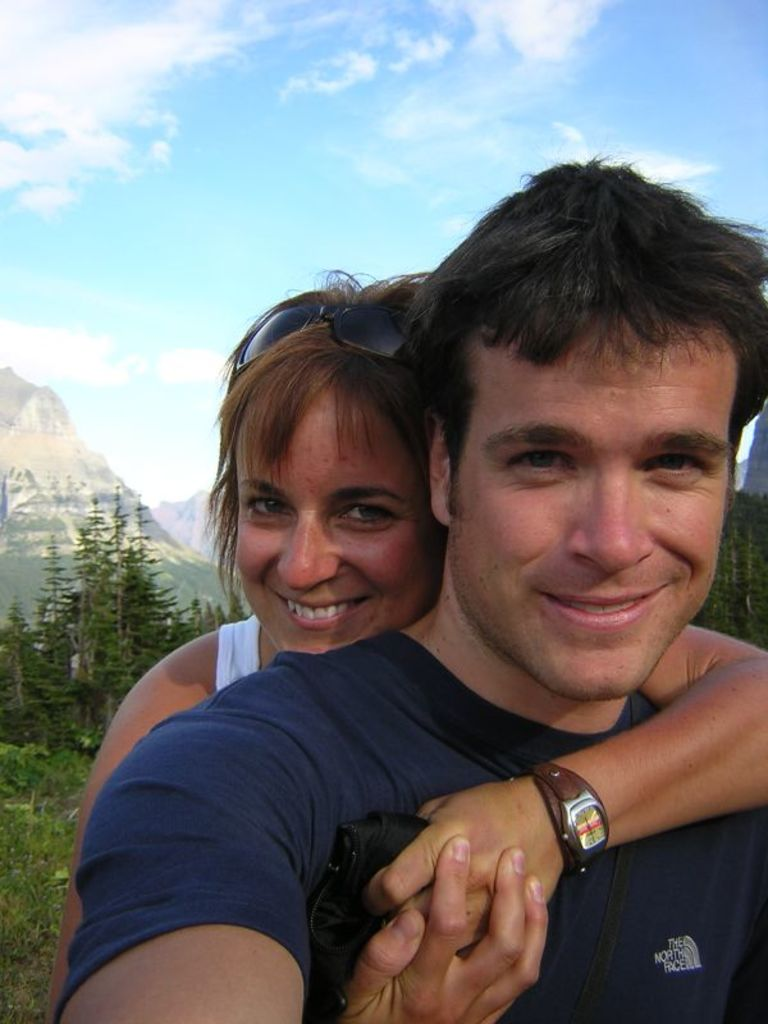Tree: (0, 483, 243, 756)
